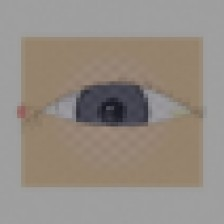pinguecula_lesion: (162, 99, 201, 130)
